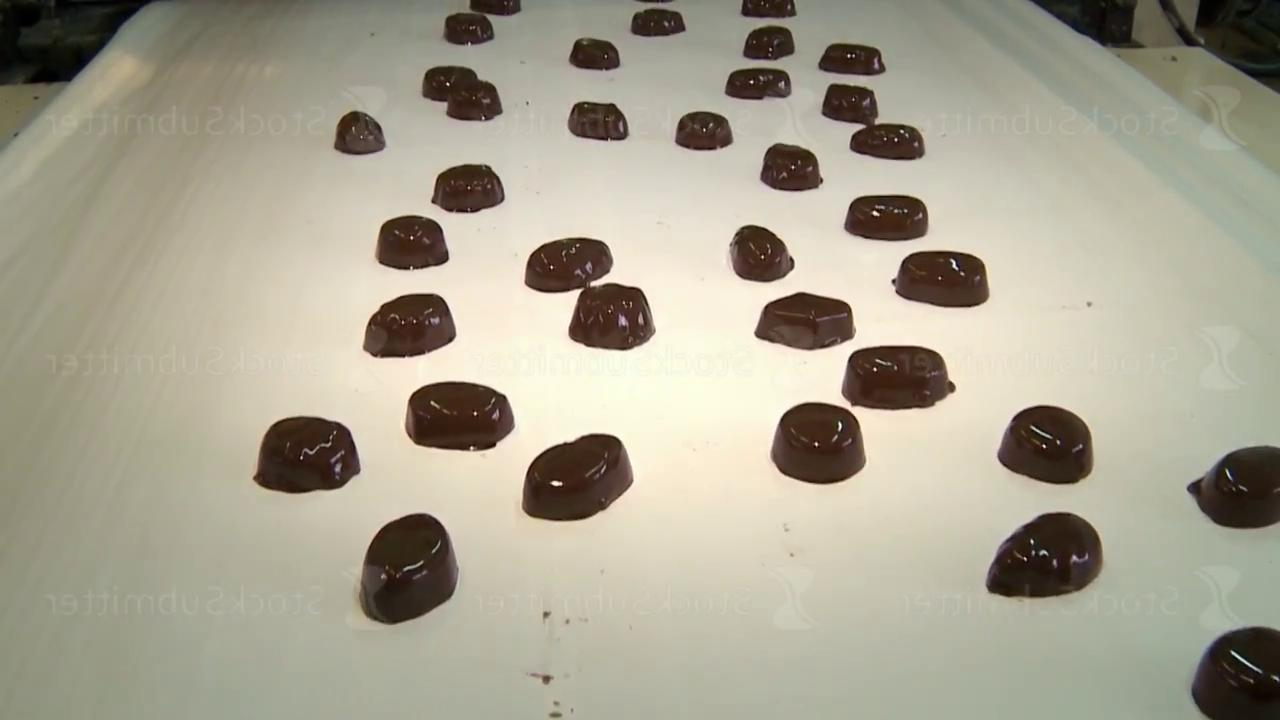chocolate: (360, 512, 459, 624), (986, 511, 1103, 598), (522, 432, 634, 520), (1192, 624, 1280, 719), (254, 415, 361, 493), (1187, 444, 1280, 529), (405, 380, 515, 451), (771, 401, 866, 483), (998, 404, 1094, 484), (843, 345, 955, 409), (363, 292, 456, 358), (569, 282, 656, 350), (755, 291, 855, 350), (893, 250, 990, 307), (525, 237, 613, 292), (376, 215, 449, 269), (845, 194, 929, 240), (432, 163, 505, 213), (730, 224, 794, 281), (761, 142, 823, 191), (851, 123, 925, 160), (568, 101, 629, 140), (447, 79, 503, 120), (676, 110, 733, 150), (335, 110, 386, 154), (822, 83, 878, 123), (726, 67, 791, 100), (819, 42, 886, 74), (744, 25, 795, 59), (570, 37, 620, 70), (445, 12, 494, 44), (631, 8, 686, 36)
